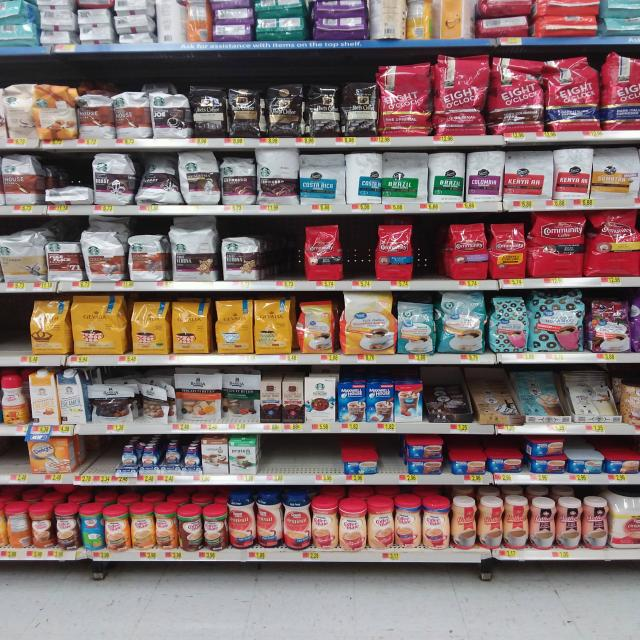empty: (257, 431, 339, 473), (264, 214, 305, 283), (413, 212, 447, 281), (342, 216, 374, 282), (77, 434, 118, 469), (379, 434, 410, 473)
